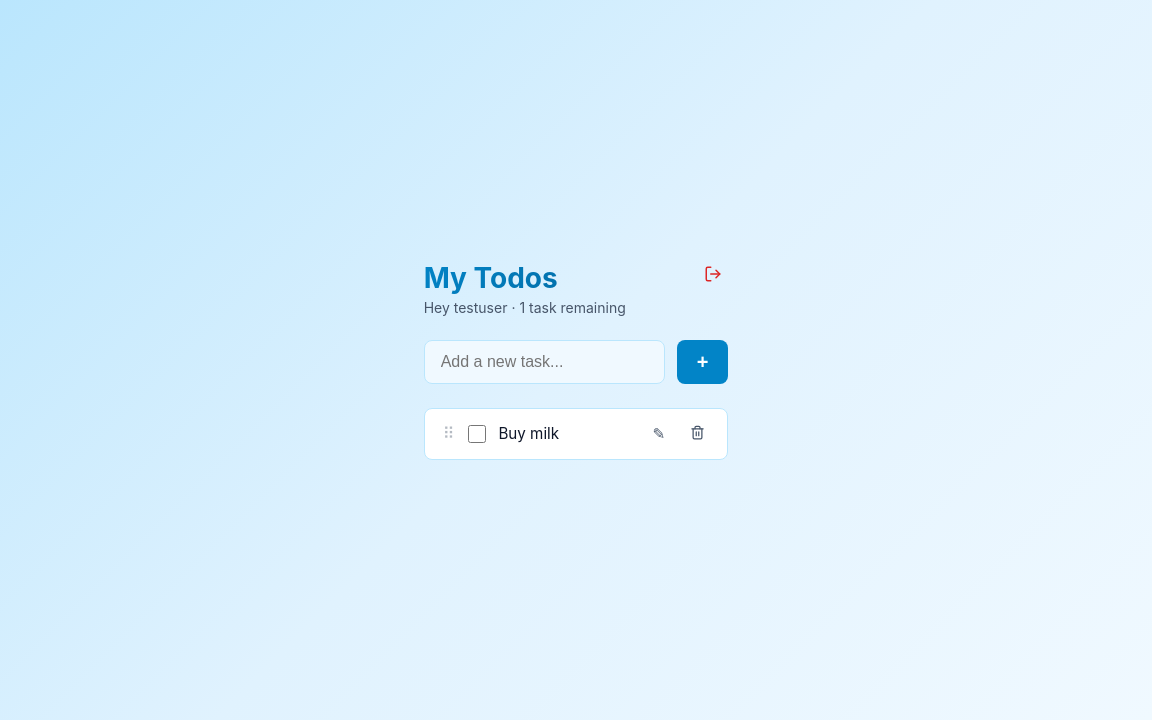
Test: Home page › clicking delete icon opens the delete confirmation modal
Click the button titled "Delete" at (698,434), box [684,420,711,446]
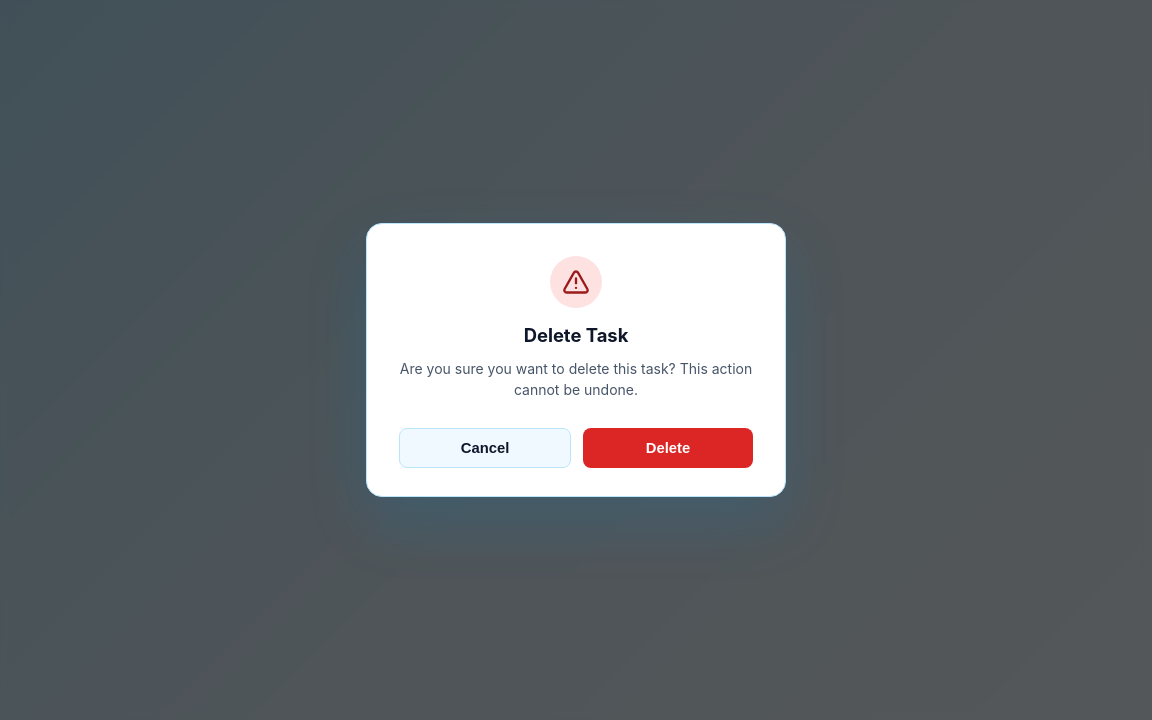
Expected: the heading "Delete Task" is shown, [524,324,628,346]
Expected: the text "cannot be undone" is shown, [400,360,752,398]
